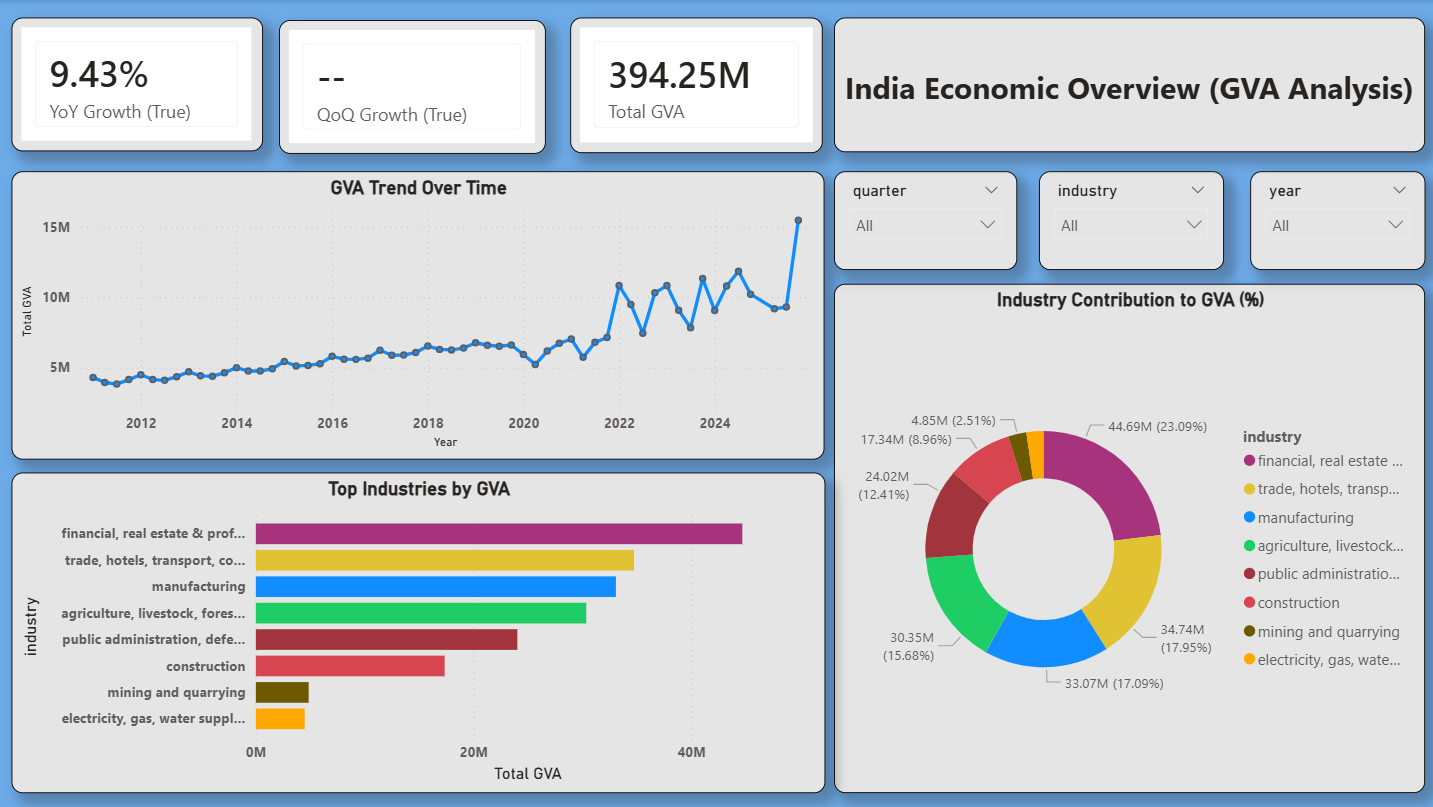

The page's visual inventory and layout, read from the dashboard file:
{"tool":"powerbi","page":{"name":"OverView","canvas":[1280,720],"ordinal":0},"visuals":[{"type":"cardVisual","fields":{"Data":["gva_feature_engineered.YoY Growth (True)"]},"box":[11,15.1,223.7,119.4],"z":1000},{"type":"cardVisual","fields":{"Data":["gva_feature_engineered.QoQ Growth (True)"]},"box":[249.7,17.8,237.4,119.4],"z":2000},{"type":"cardVisual","fields":{"Data":["gva_feature_engineered.Total GVA"]},"box":[509.1,15.1,225,120.8],"z":3000},{"type":"lineChart","title":"GVA Trend Over Time","fields":{"Y":["gva_feature_engineered.Total GVA"],"Category":["gva_feature_engineered.date.Variation.Date Hierarchy.Year","gva_feature_engineered.date.Variation.Date Hierarchy.Quarter","gva_feature_engineered.date.Variation.Date Hierarchy.Month","gva_feature_engineered.date.Variation.Date Hierarchy.Day"]},"box":[11,152.1,723.9,256.4],"z":4000},{"type":"donutChart","title":"Industry Contribution to GVA (%)","fields":{"Y":["gva_feature_engineered.Total GVA"],"Category":["gva_feature_engineered.industry"]},"box":[743.6,252.8,526.4,454],"z":5000},{"type":"clusteredBarChart","title":"Top Industries by GVA","fields":{"Category":["gva_feature_engineered.industry"],"Y":["gva_feature_engineered.Total GVA"]},"box":[11,421.3,724.5,285.4],"z":6000},{"type":"slicer","fields":{"Values":["gva_feature_engineered.year"]},"box":[1114.1,152.1,155.8,88.3],"z":7000},{"type":"slicer","fields":{"Values":["gva_feature_engineered.quarter"]},"box":[743.6,152.1,163.2,88.3],"z":8000},{"type":"slicer","fields":{"Values":["gva_feature_engineered.industry"]},"box":[926.4,152.1,164.4,88.3],"z":9000},{"type":"textbox","box":[743.6,16,526.4,120.2],"z":10000}]}

Visuals, with their boxes in screenshot pixels (x1, y1, x2, y2), scaled from the page's 1280x720 canvas onto the 1433x807 screenshot:
cardVisual - gva_feature_engineered.YoY Growth (True): bbox=(12, 17, 263, 151)
cardVisual - gva_feature_engineered.QoQ Growth (True): bbox=(280, 20, 545, 154)
cardVisual - gva_feature_engineered.Total GVA: bbox=(570, 17, 822, 152)
"GVA Trend Over Time" lineChart: bbox=(12, 170, 823, 458)
"Industry Contribution to GVA (%)" donutChart: bbox=(832, 283, 1422, 792)
"Top Industries by GVA" clusteredBarChart: bbox=(12, 472, 823, 792)
slicer - gva_feature_engineered.year: bbox=(1247, 170, 1422, 269)
slicer - gva_feature_engineered.quarter: bbox=(832, 170, 1015, 269)
slicer - gva_feature_engineered.industry: bbox=(1037, 170, 1221, 269)
textbox: bbox=(832, 18, 1422, 153)
